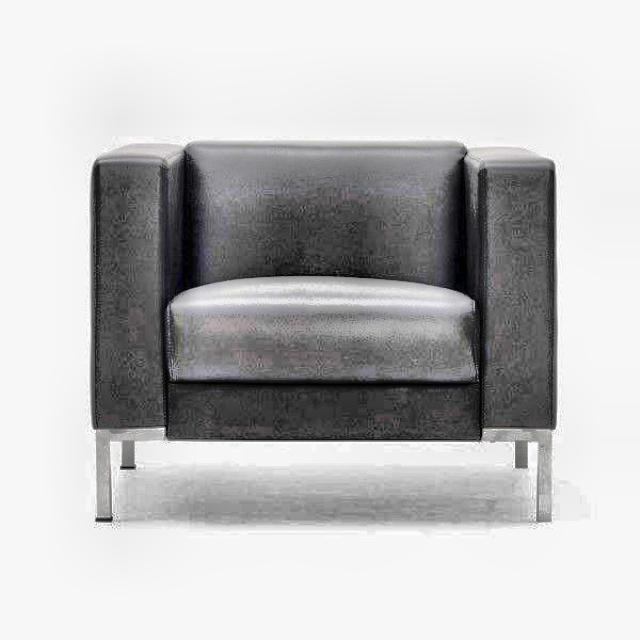sofa: (88, 137, 558, 524)
